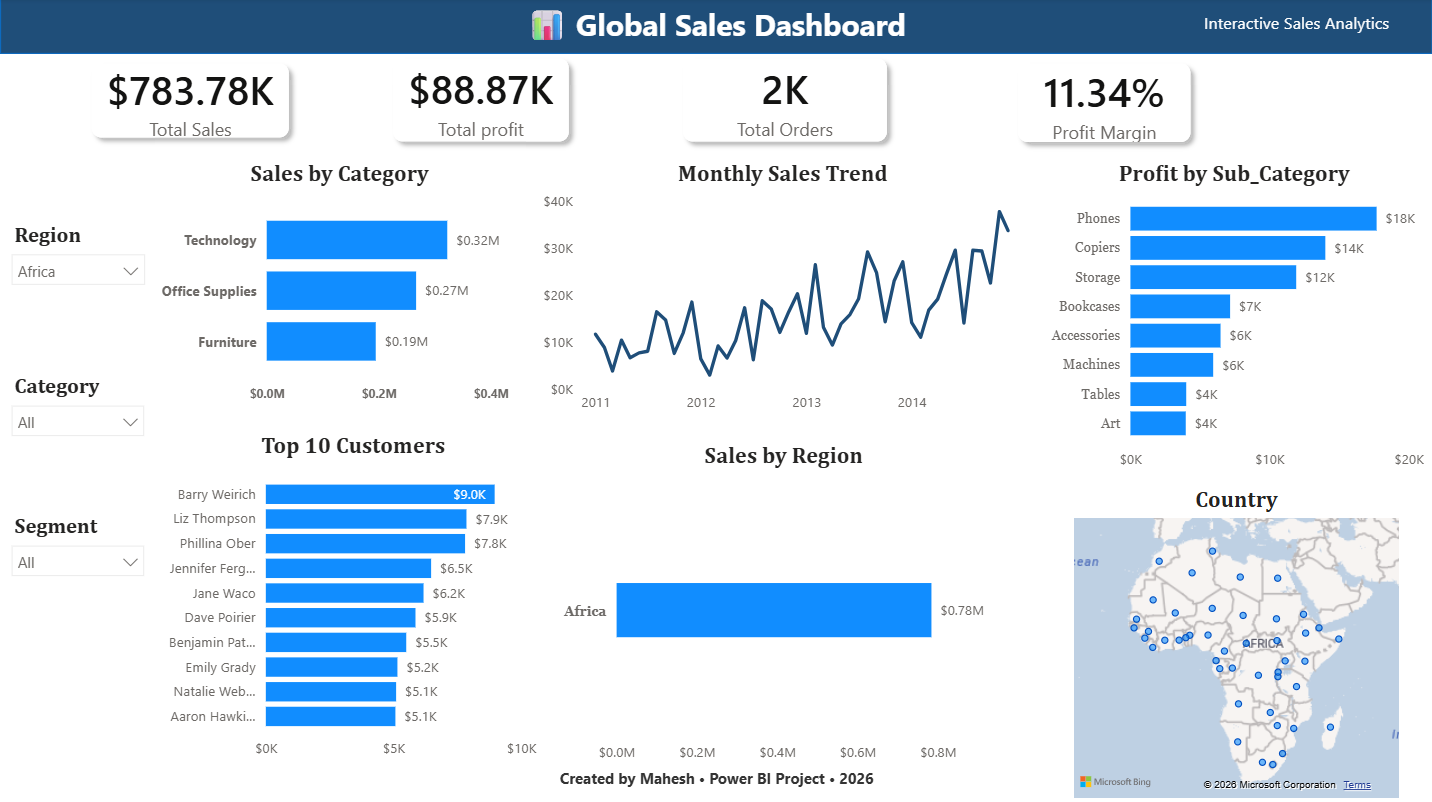

Layout of this report page (visuals, bound fields, positions):
{"tool":"powerbi","page":{"name":"Duplicate of Sales Dashboard","canvas":[1280,720],"ordinal":1},"visuals":[{"type":"cardVisual","fields":{"Data":["SalesData.Total Sales"]},"box":[58.6,34.3,224.3,114.3],"z":0},{"type":"cardVisual","fields":{"Data":["SalesData.Total profit"]},"box":[327.1,30,205.7,122.9],"z":1000},{"type":"cardVisual","fields":{"Data":["SalesData.Total Orders"]},"box":[585.7,30,230,122.9],"z":2000},{"type":"cardVisual","fields":{"Data":["SalesData.Profit Margin"]},"box":[885.7,34.3,202.9,118.6],"z":3000},{"type":"clusteredBarChart","title":"Sales by Category","fields":{"Category":["SalesData.category"],"Y":["SalesData.Total Sales"]},"box":[138.6,144.3,330,227.1],"z":4000},{"type":"lineChart","title":"Monthly Sales Trend","fields":{"Category":["SalesData.order_date.Variation.Date Hierarchy.Year","SalesData.order_date.Variation.Date Hierarchy.Month"],"Y":["SalesData.Total Sales"]},"box":[480,144.3,438.6,235.7],"z":5000},{"type":"clusteredBarChart","title":"Profit by Sub_Category","fields":{"Category":["SalesData.sub_category"],"Y":["SalesData.Total profit"]},"box":[927.1,144.3,352.9,281.4],"z":6000},{"type":"clusteredBarChart","title":" Top 10 Customers","fields":{"Category":["SalesData.customer_name"],"Y":["SalesData.Total Sales"]},"box":[138.6,387.1,354.3,295.7],"z":8000},{"type":"clusteredBarChart","title":"Sales by Region","fields":{"Category":["SalesData.region"],"Y":["SalesData.Total Sales"]},"box":[498,396.4,404.2,295.9],"z":9000},{"type":"textbox","box":[457.1,682.9,367.1,34.3],"z":10000},{"type":"slicer","fields":{"Values":["SalesData.region"]},"box":[0,195.7,139.3,82.9],"z":11000},{"type":"slicer","fields":{"Values":["SalesData.category"]},"box":[0,330.2,139.1,82],"z":12000},{"type":"slicer","fields":{"Values":["SalesData.segment"]},"box":[0,455.7,139.1,82],"z":13000},{"type":"shape","box":[0,0,1279.7,50],"z":14000},{"type":"textbox","box":[461.2,0,357.3,50.2],"z":15000},{"type":"textbox","box":[1070,7.1,177.1,35.7],"z":15001},{"type":"map","title":"Country","fields":{"Category":["SalesData.country"]},"box":[954.3,435.7,300,284.3],"z":15002}]}

Visuals, with their boxes in screenshot pixels (x1, y1, x2, y2), scaled from the page's 1280x720 canvas onto the 1432x802 screenshot:
cardVisual - SalesData.Total Sales: <region>66, 38, 316, 166</region>
cardVisual - SalesData.Total profit: <region>366, 33, 596, 170</region>
cardVisual - SalesData.Total Orders: <region>655, 33, 913, 170</region>
cardVisual - SalesData.Profit Margin: <region>991, 38, 1218, 170</region>
"Sales by Category" clusteredBarChart: <region>155, 161, 524, 414</region>
"Monthly Sales Trend" lineChart: <region>537, 161, 1028, 423</region>
"Profit by Sub_Category" clusteredBarChart: <region>1037, 161, 1431, 474</region>
" Top 10 Customers" clusteredBarChart: <region>155, 431, 551, 761</region>
"Sales by Region" clusteredBarChart: <region>557, 442, 1009, 771</region>
textbox: <region>511, 761, 922, 799</region>
slicer - SalesData.region: <region>0, 218, 156, 310</region>
slicer - SalesData.category: <region>0, 368, 156, 459</region>
slicer - SalesData.segment: <region>0, 508, 156, 599</region>
shape: <region>0, 0, 1431, 56</region>
textbox: <region>516, 0, 916, 56</region>
textbox: <region>1197, 8, 1395, 48</region>
"Country" map: <region>1068, 485, 1403, 801</region>
